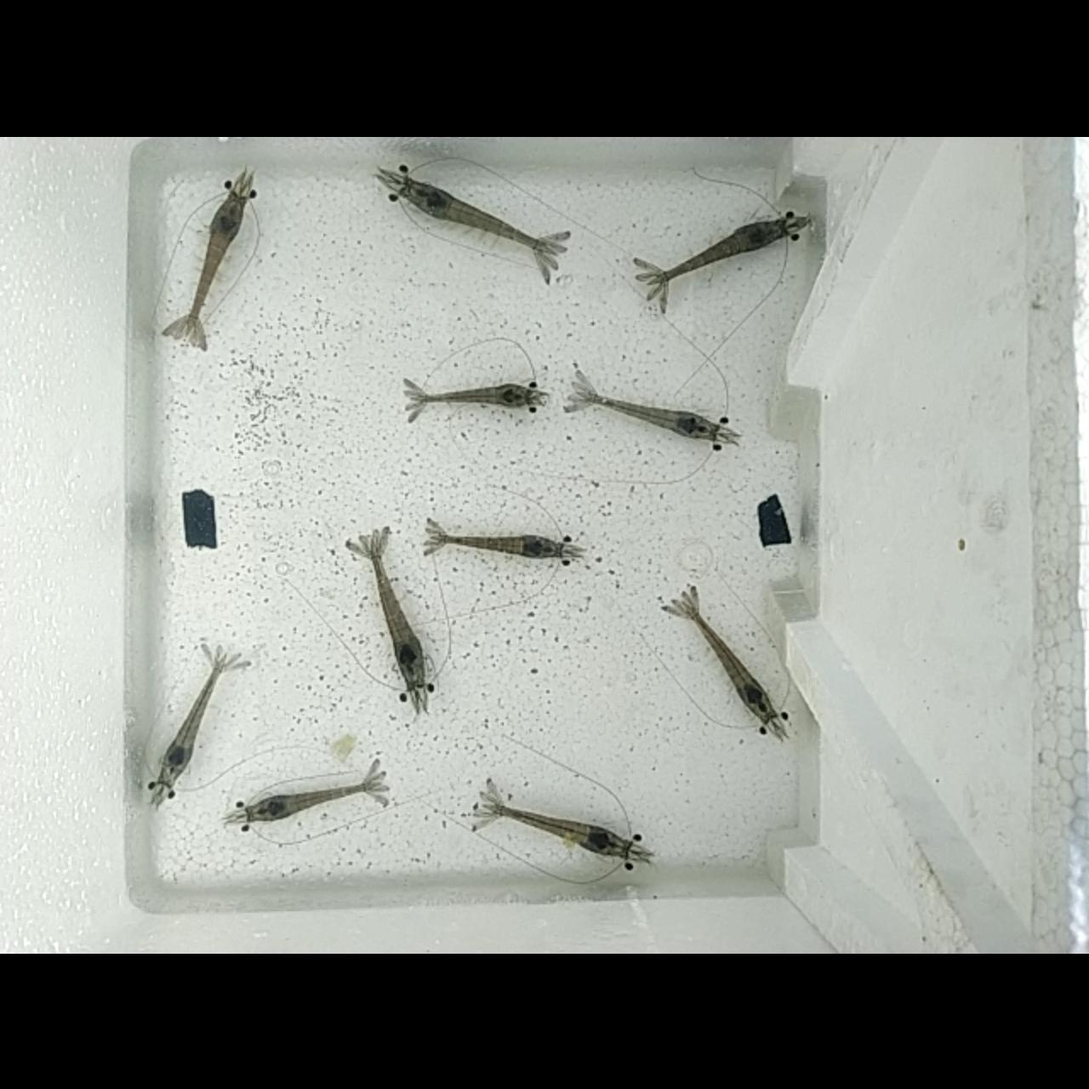box: (185, 490, 216, 546), (759, 499, 791, 543)
top_shrimp: (407, 179, 556, 250), (684, 601, 773, 718), (650, 220, 786, 282), (163, 657, 225, 781), (371, 543, 424, 686), (189, 194, 245, 328), (487, 803, 626, 856), (580, 395, 715, 439), (250, 781, 374, 820), (437, 534, 562, 556), (413, 385, 531, 405)
